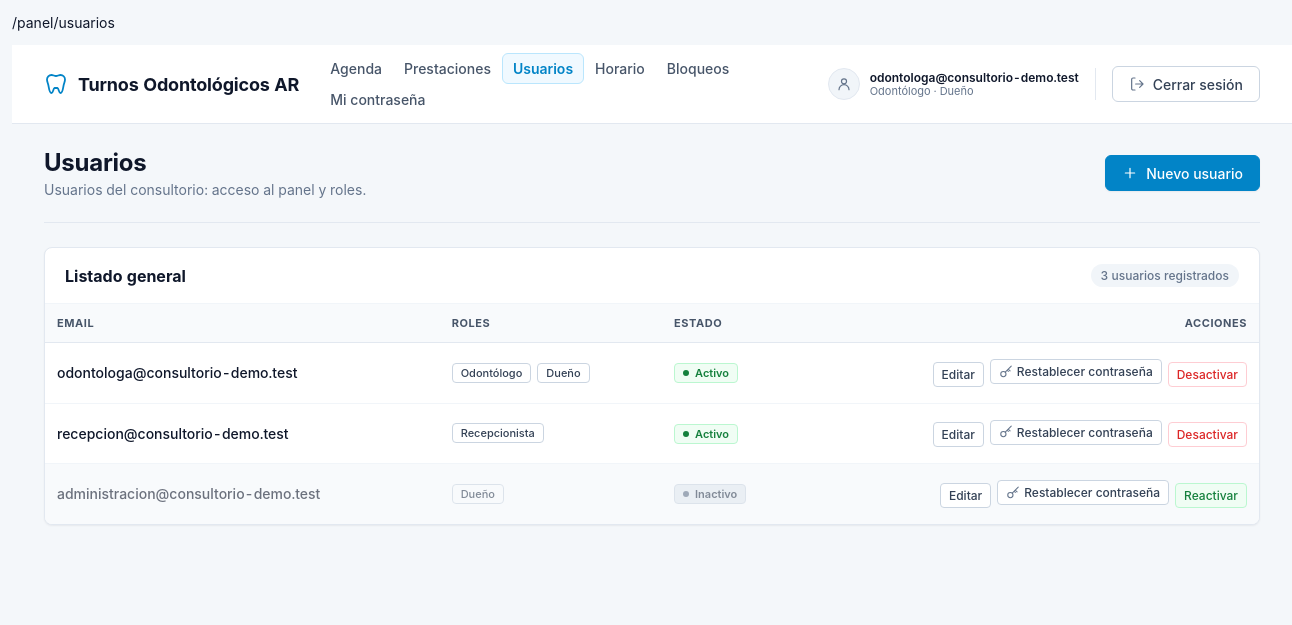
PaginaUsuarios: edición de roles y desactivación › US-093 CA-5: la odontóloga no puede desactivarse
This screenshot has width=1292, height=625.
Expected: the table is shown, left=45, top=304, right=1259, bottom=524
Click the 1st button "Desactivar" at (1207, 374), box left=1168, top=362, right=1247, bottom=386
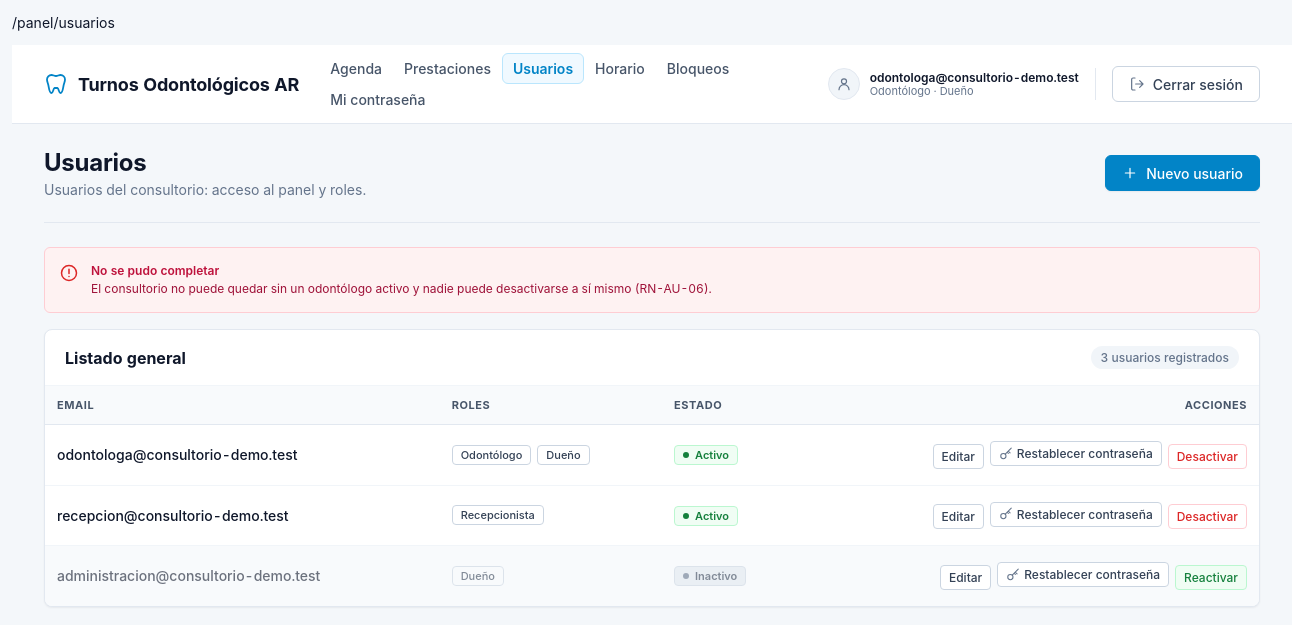
Expected: the 1st text "Activo" is shown, left=674, top=445, right=738, bottom=465
Result: the message shows "El consultorio no puede quedar sin un odontólogo activo y nadie puede desactivarse a sí mismo (RN-AU-06)." at left=91, top=281, right=712, bottom=296
